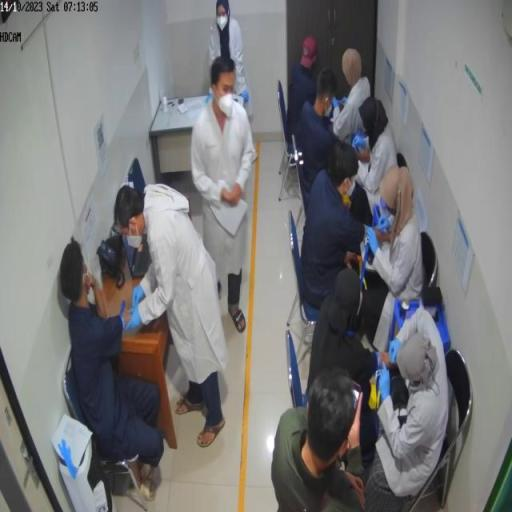person: (112, 183, 230, 449), (61, 238, 167, 502), (192, 57, 259, 335), (363, 306, 450, 509), (308, 269, 395, 467), (272, 369, 367, 512), (301, 141, 367, 309), (370, 166, 426, 307), (299, 69, 342, 210), (356, 95, 400, 220), (208, 1, 253, 123), (335, 48, 372, 146), (289, 36, 320, 148)
